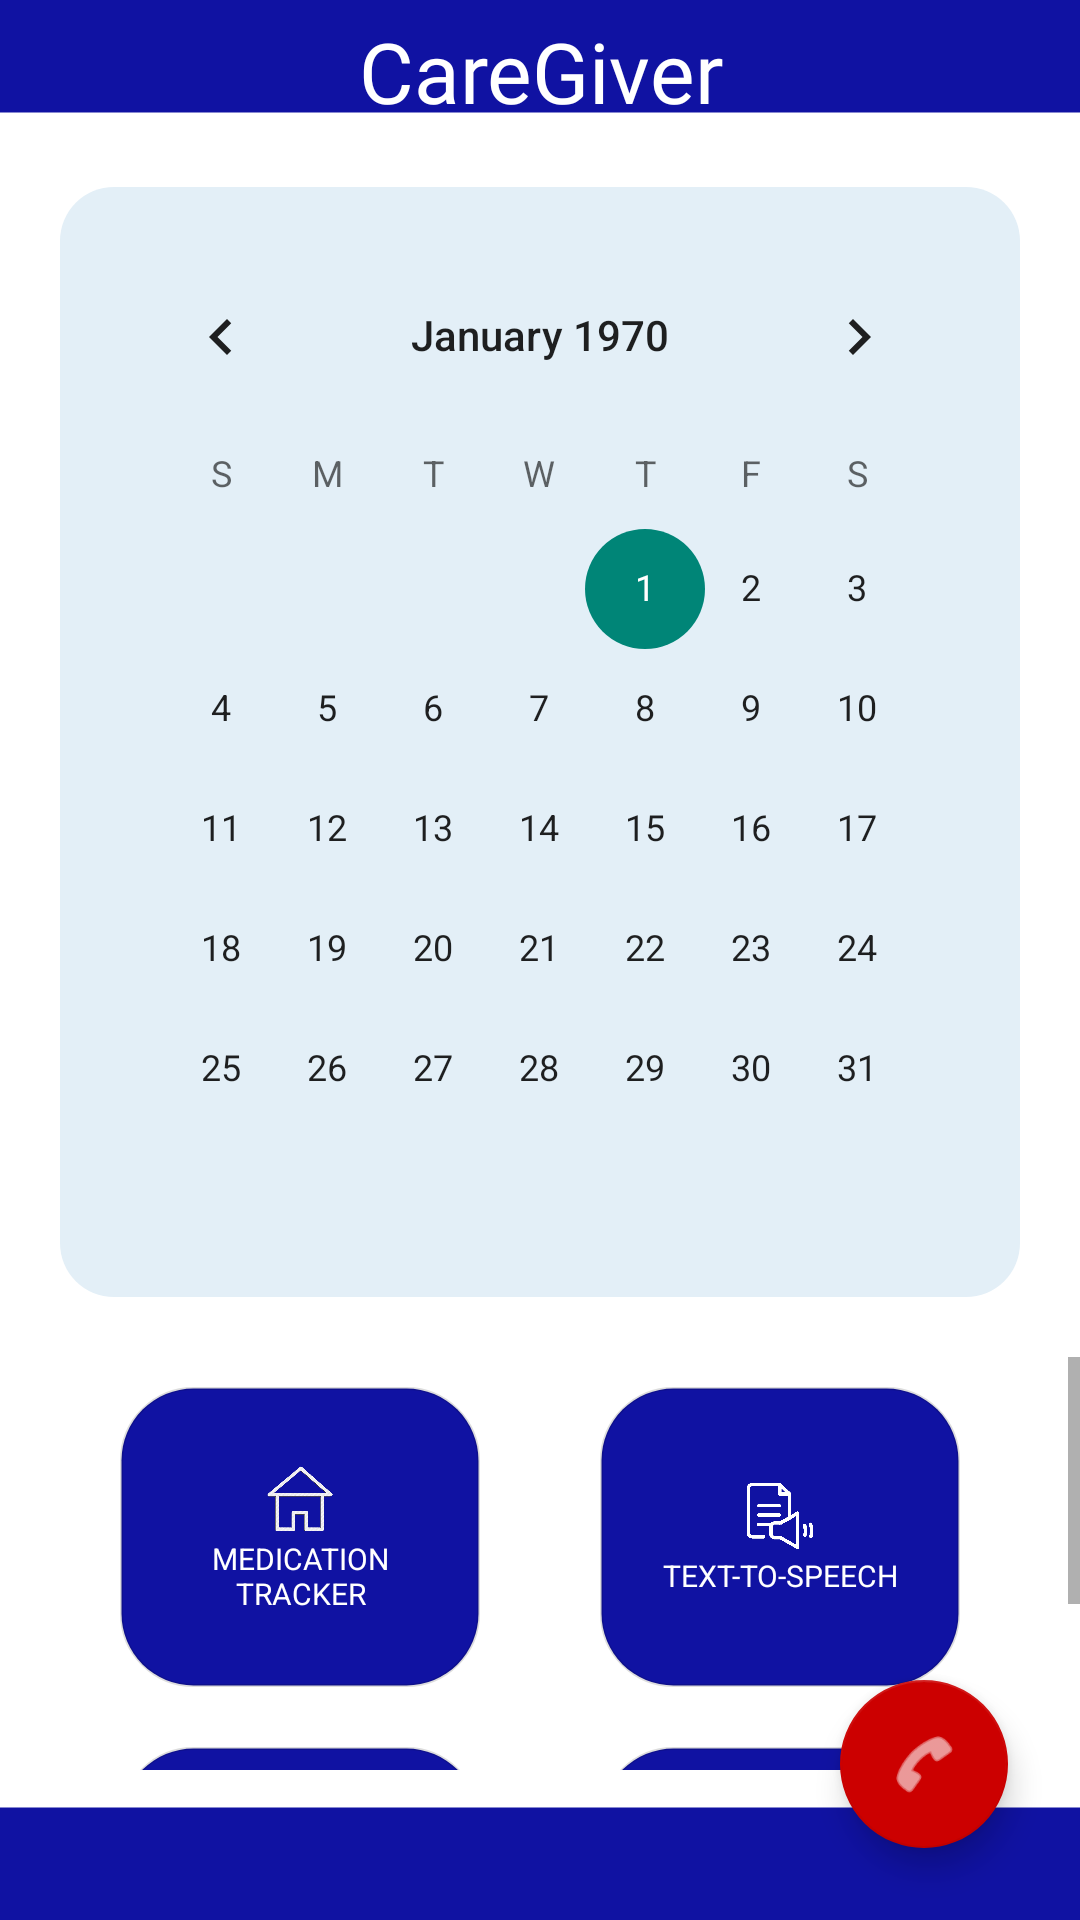

Named icons in this screenshot (1080 × 1920) and their centers, (x,y):
call: (924,1764)
home: (300,1498)
